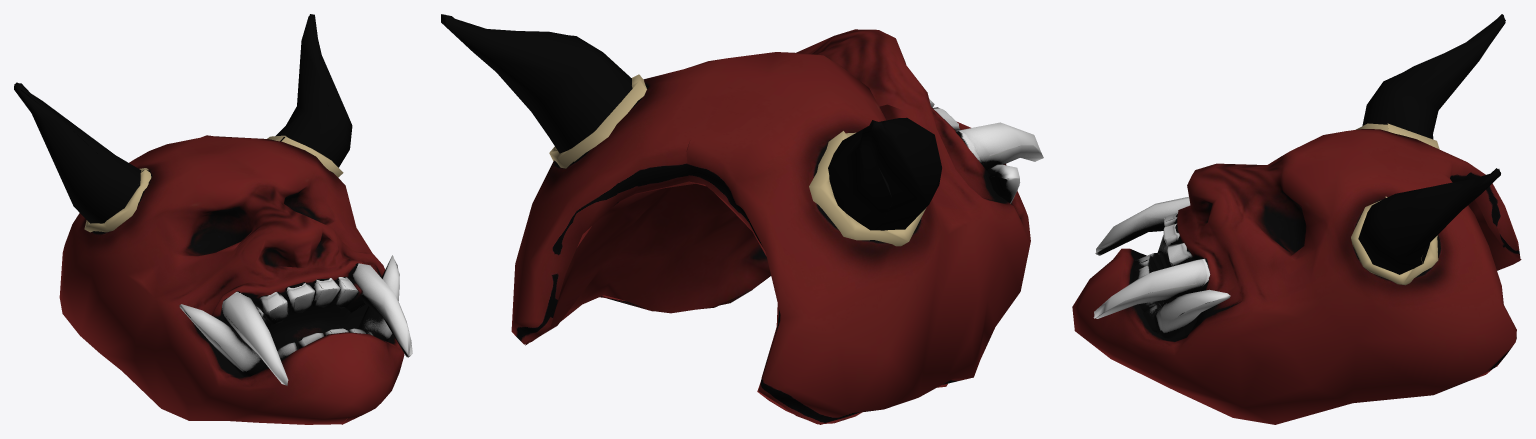
File: OniMask_WorldItem.fbx
3 views of the same model, side by side, from view 1: azimuth 30°, elevation 25°; view 2: azimuth 150°, elevation 25°; view 3: azimuth 270°, elevation 25° (orthographic). The views are drawn at different scales.
Visible parts, largest first — view 1: OniMask; view 2: OniMask; view 3: OniMask.
Part boxes in pixels (x1,y1,x2,y2): OniMask: (14,14,412,424); OniMask: (441,14,1043,424); OniMask: (1072,14,1521,424).
Bounding box in the file's own units: 0.1356 × 0.1162 × 0.1647.
